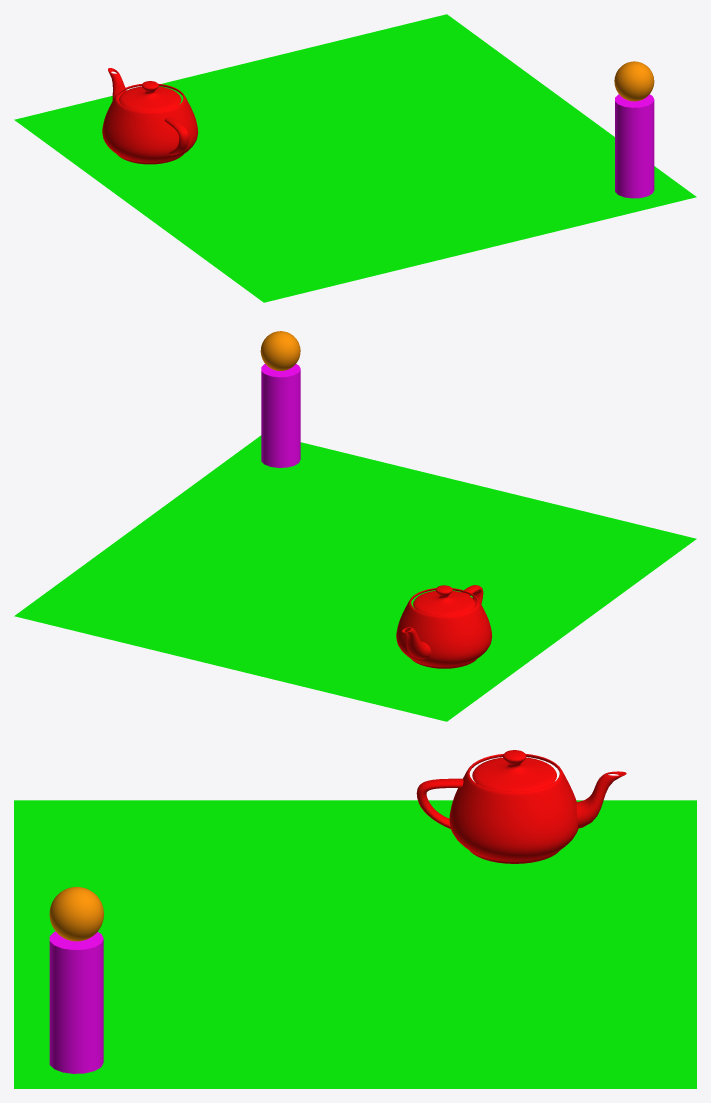
Rendered from ejemplo-7.glb.
The picture shows the model from 3 angles, top to bottom: view 1: azimuth 30°, elevation 25°; view 2: azimuth 150°, elevation 25°; view 3: azimuth 270°, elevation 25°; orthographic projection. The views are drawn at different scales.
Visible parts, largest first — view 1: Plane001, Teapot001, Cylinder001, Sphere001; view 2: Plane001, Teapot001, Cylinder001, Sphere001; view 3: Plane001, Teapot001, Cylinder001, Sphere001.
Boxes of the visible parts, x1,y1,x2,y2 form: Plane001: (14, 14, 696, 302); Teapot001: (102, 68, 198, 164); Cylinder001: (615, 94, 654, 198); Sphere001: (614, 61, 654, 101); Plane001: (14, 435, 696, 721); Teapot001: (396, 585, 492, 668); Cylinder001: (261, 364, 300, 467); Sphere001: (260, 331, 300, 370); Plane001: (14, 800, 696, 1088); Teapot001: (416, 750, 626, 863); Cylinder001: (49, 931, 103, 1073); Sphere001: (49, 887, 103, 941).
Size of the model in its own units: 0.635 by 0.1776 by 0.635.
